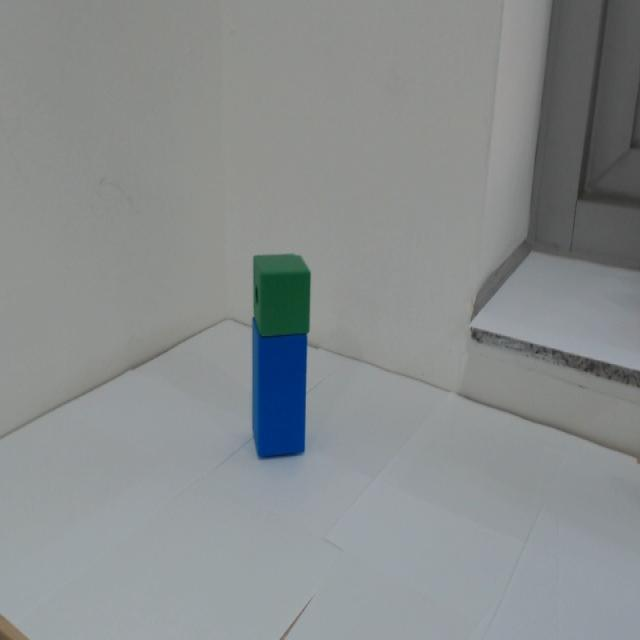cube: (243, 246, 329, 339)
